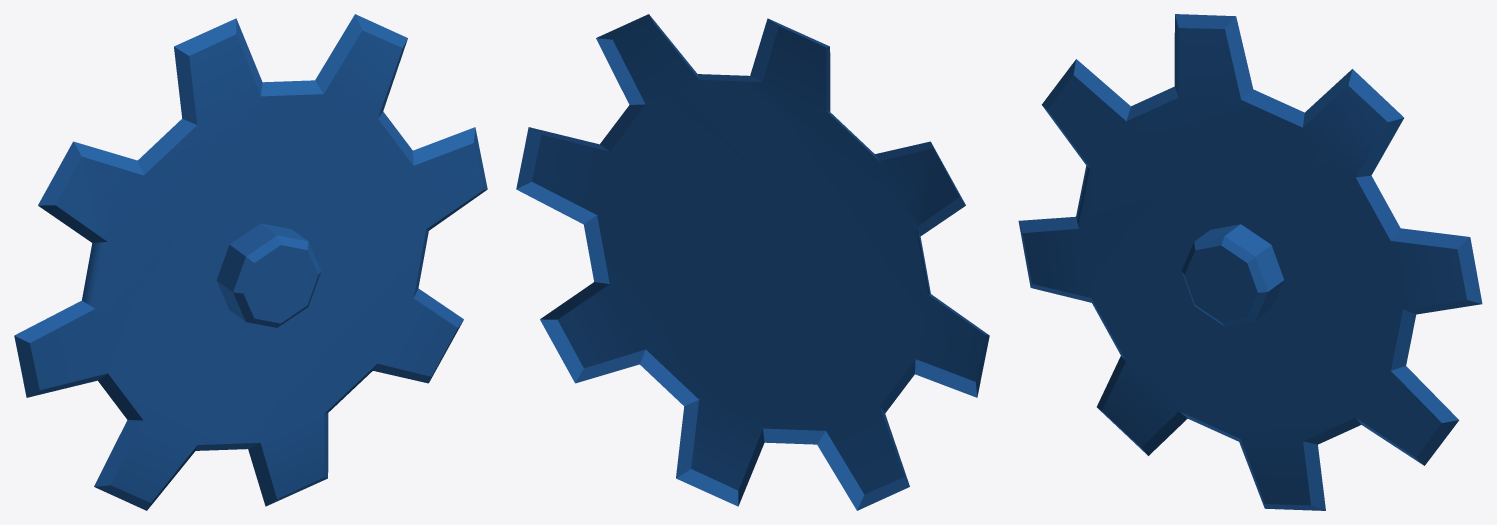
Rendered from gear2.glb.
3 views of the same model, side by side, from view 1: azimuth 30°, elevation 25°; view 2: azimuth 150°, elevation 25°; view 3: azimuth 330°, elevation 25° (orthographic). The views are drawn at different scales.
Parts seen in each view (by area): view 1: gear2; view 2: gear2; view 3: gear2.
Boxes of the visible parts, x1=… form: gear2: x1=14, y1=14, x2=487, y2=510; gear2: x1=516, y1=14, x2=989, y2=510; gear2: x1=1018, y1=14, x2=1482, y2=510.
Bounding box in the file's own units: 0.0887 × 0.0887 × 0.00969.
